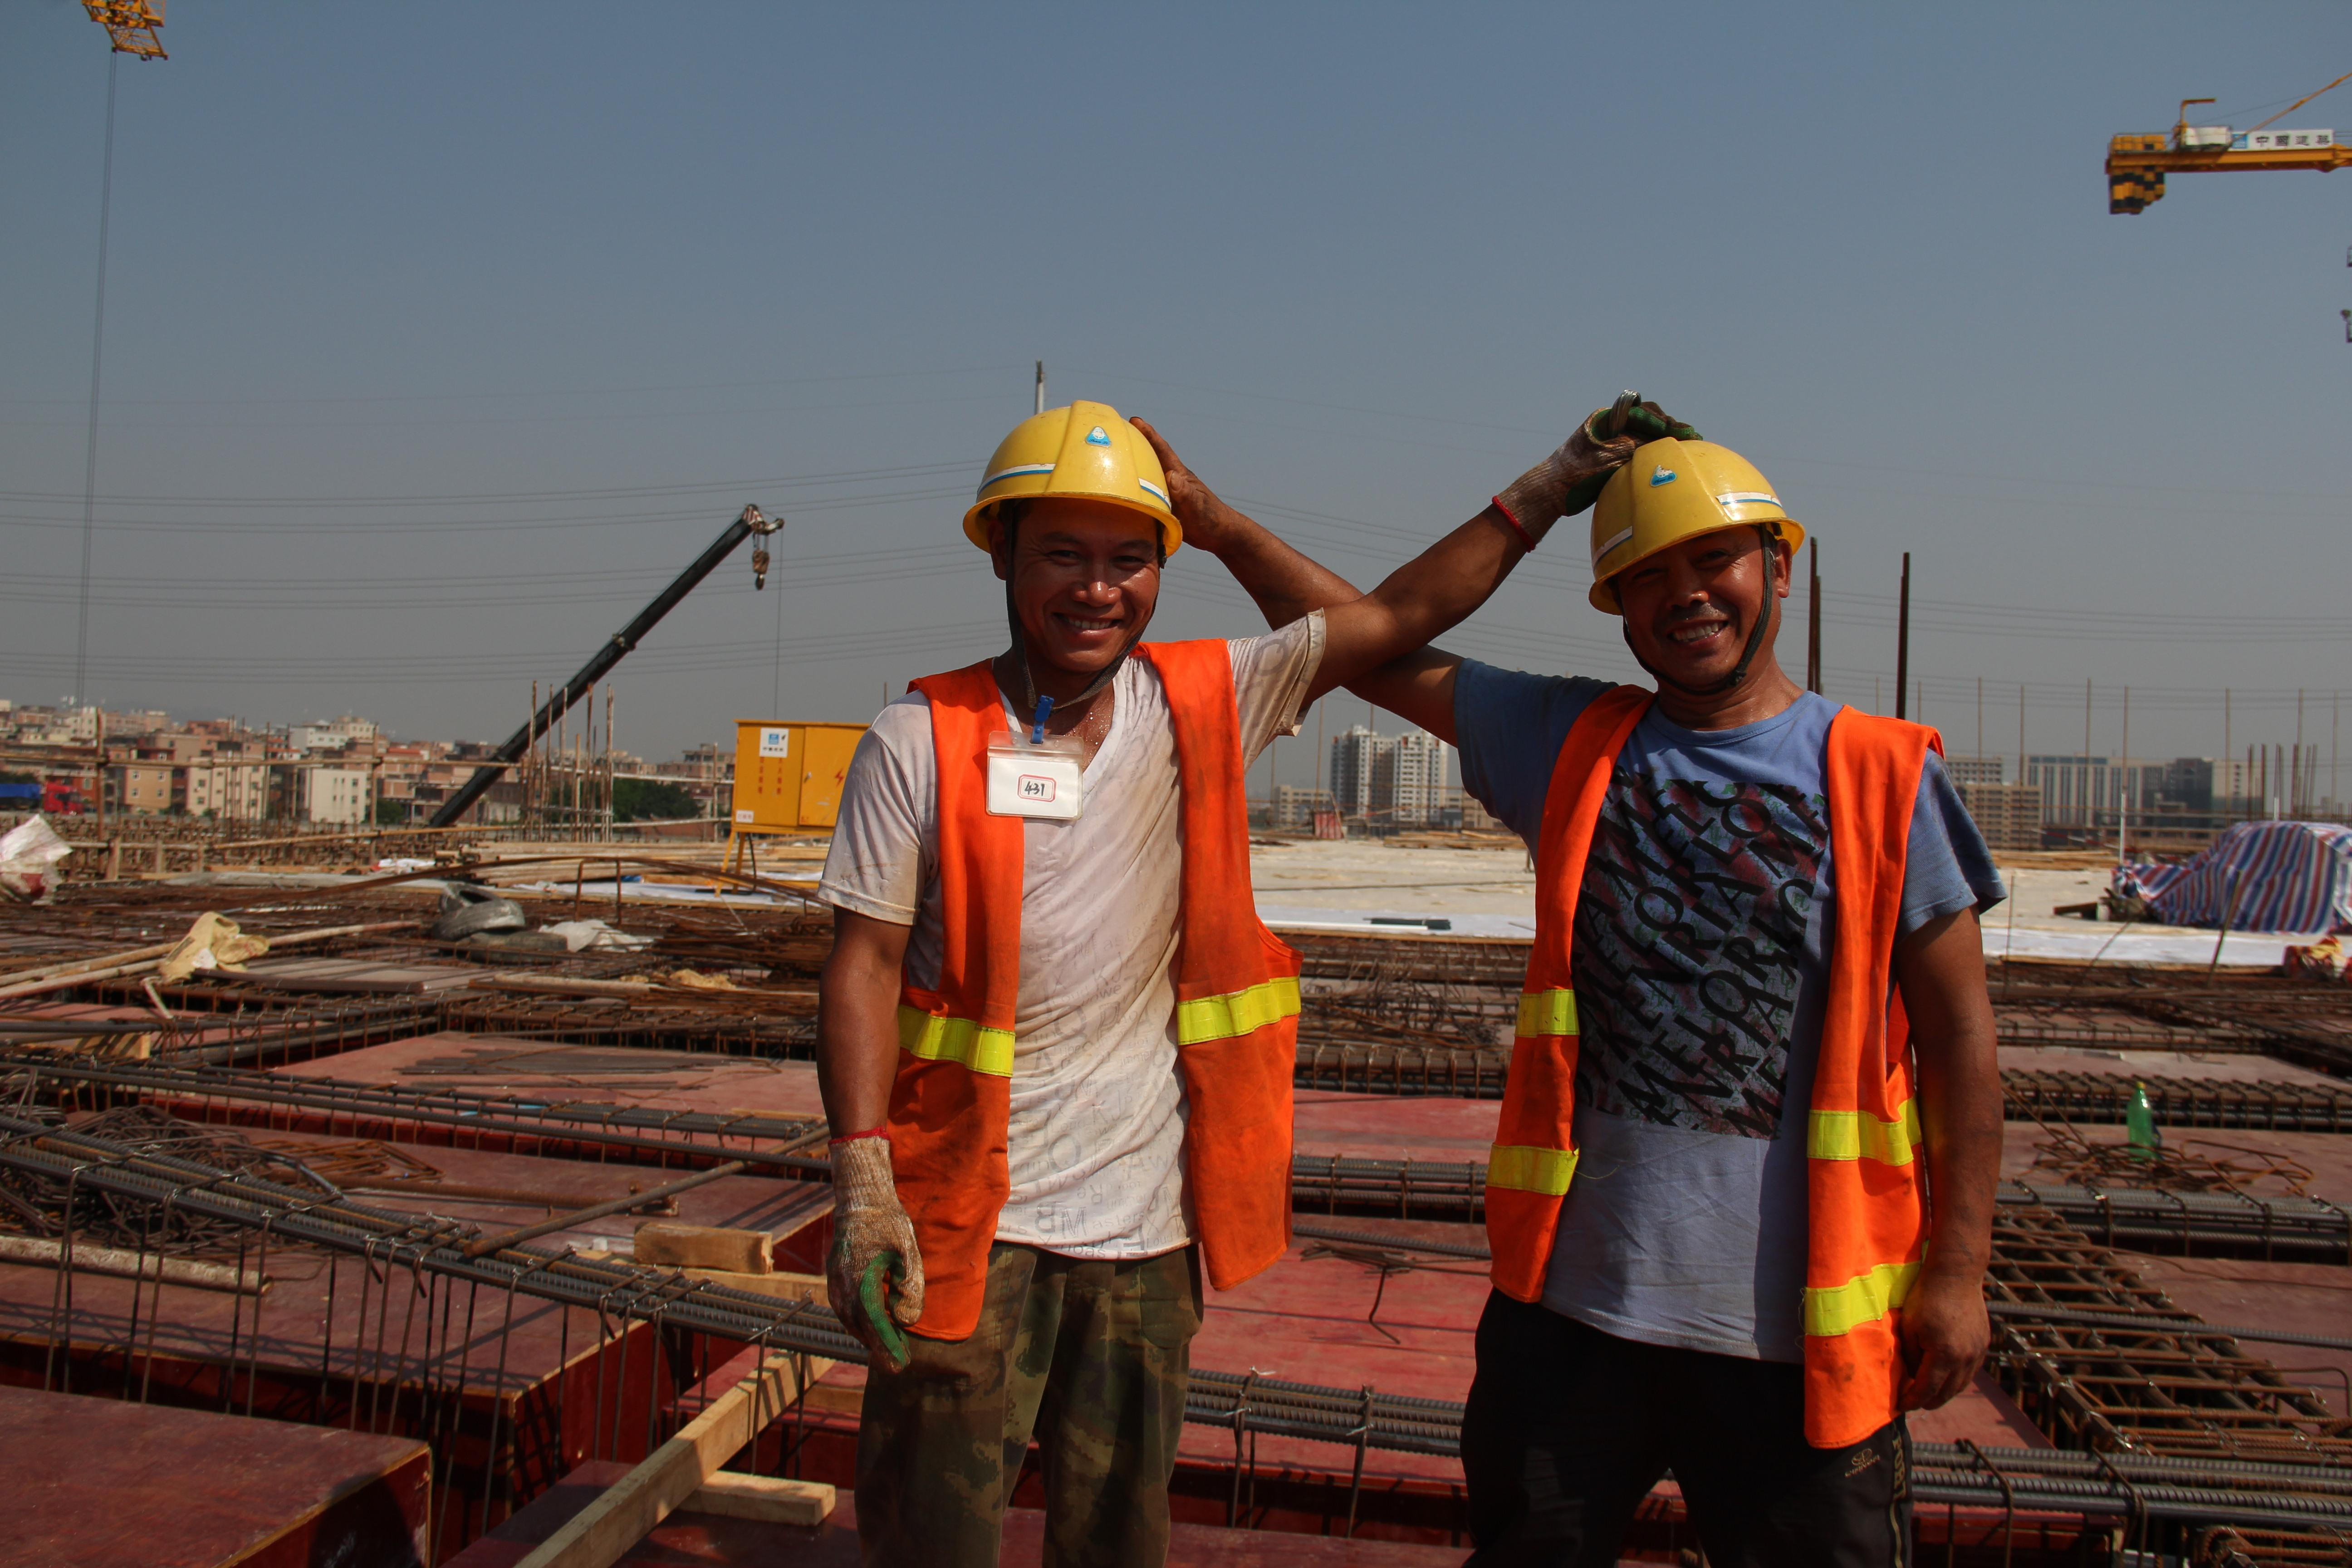helmet: (1570, 434, 1811, 621), (963, 397, 1185, 551)
